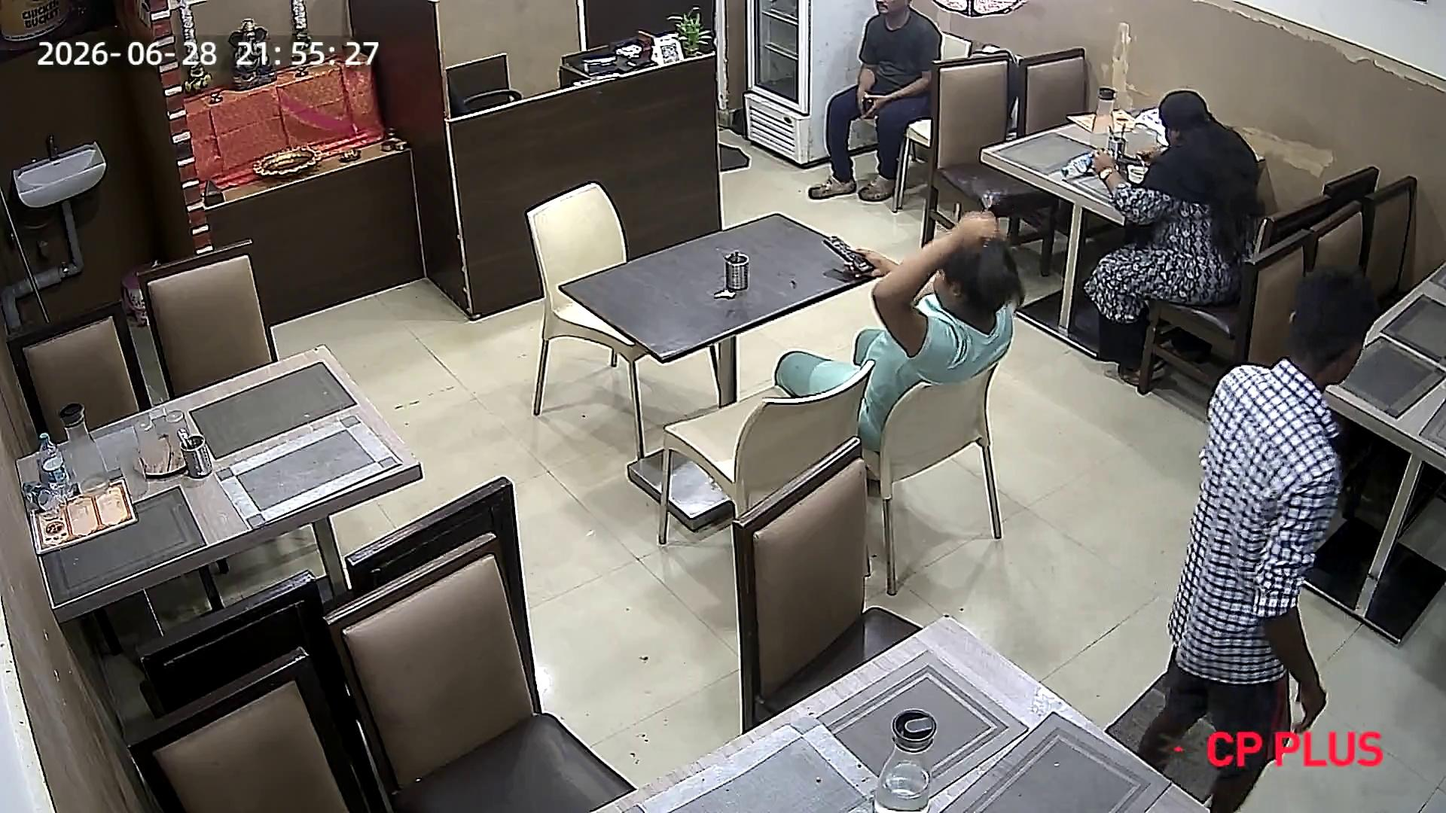dirty: (10, 330, 424, 608)
occupied: (546, 216, 1078, 459), (1003, 98, 1324, 252)
